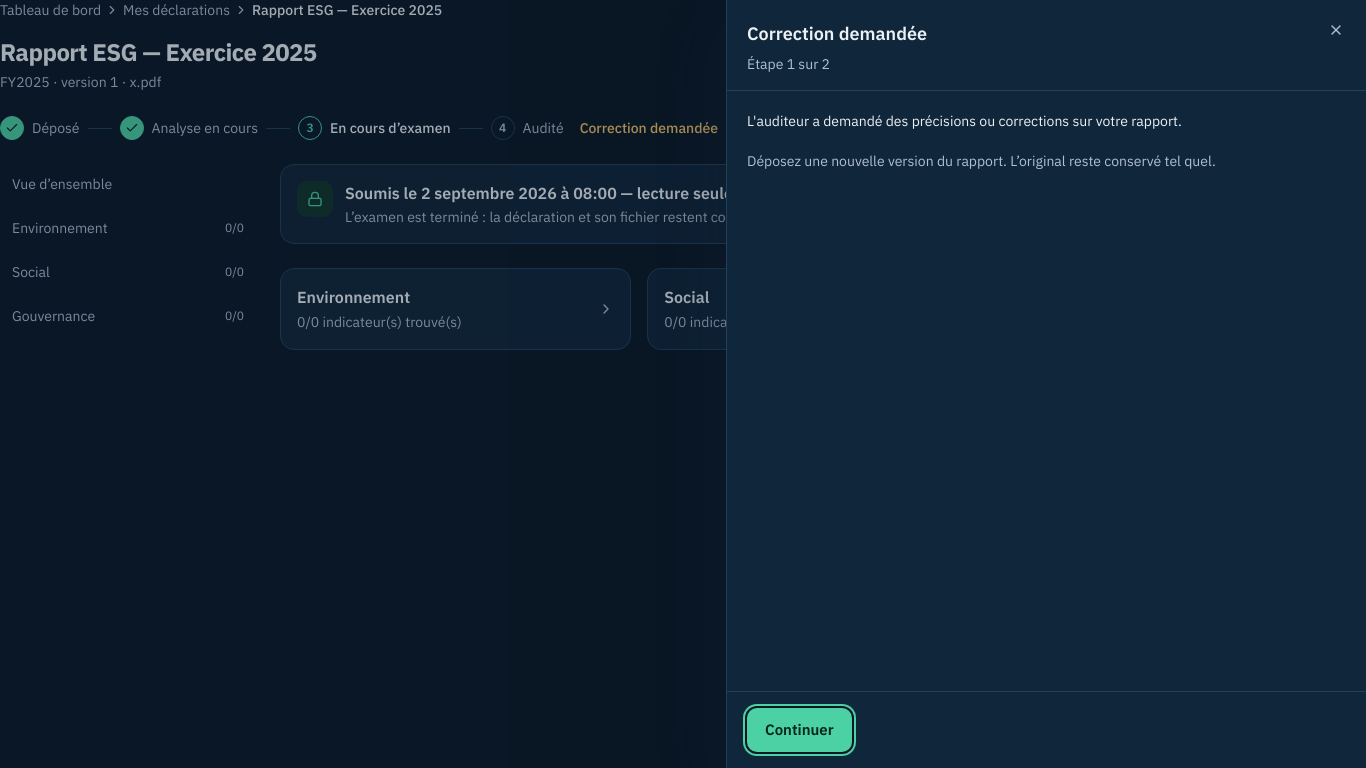
Test: Correction demandée — tiroir en deux étapes › lien direct (cache froid) : l’exercice proposé est celui de la déclaration
Click the button "Continuer".
click(799, 730)  # box x1=747 y1=708 x2=852 y2=752
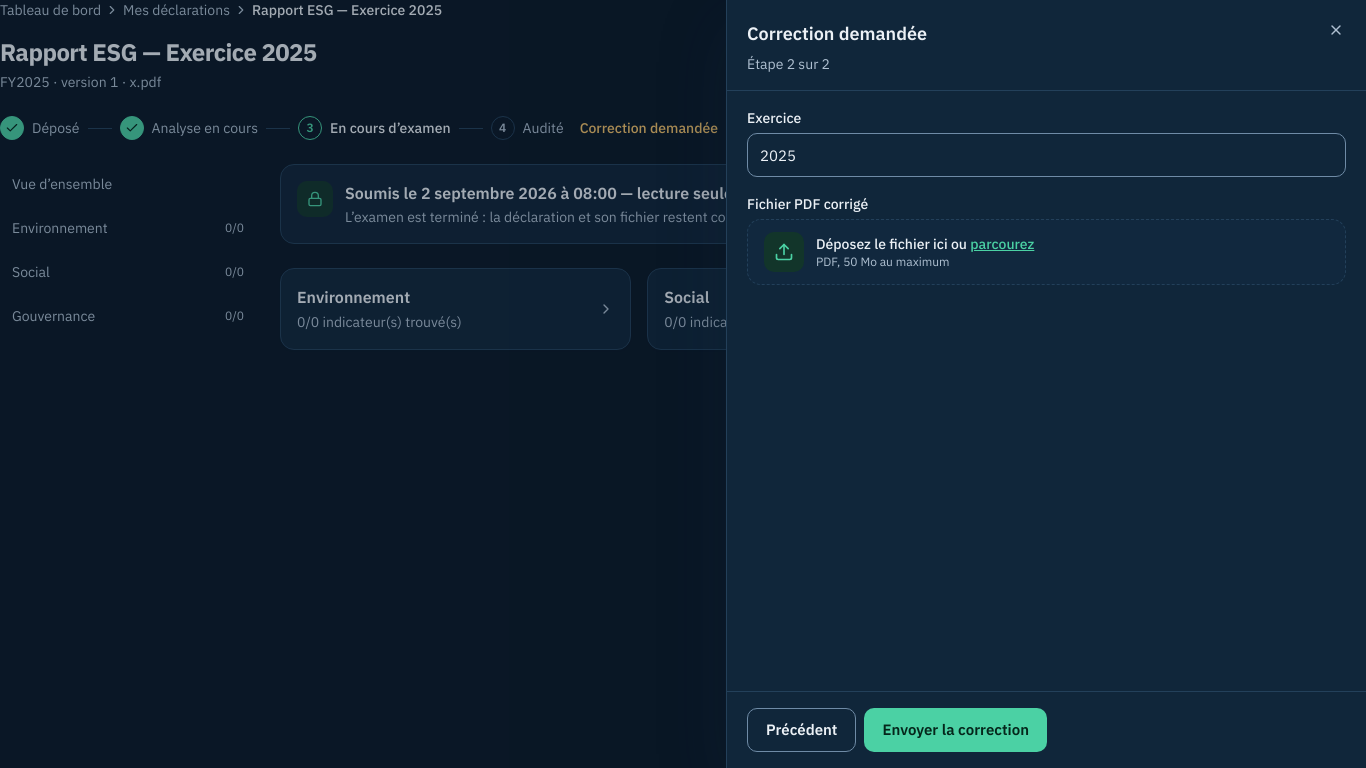
Expected: the number field labelled "Exercice" holds "2025", x1=747 y1=133 x2=1346 y2=177
